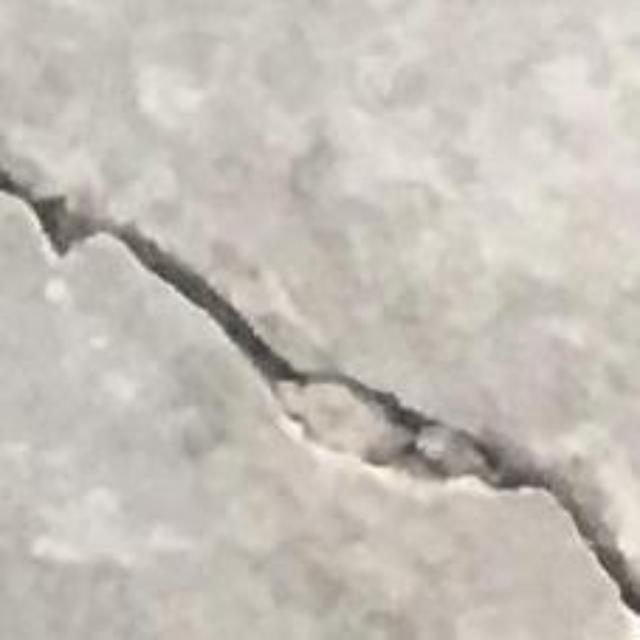crack: (0, 167, 639, 611)
